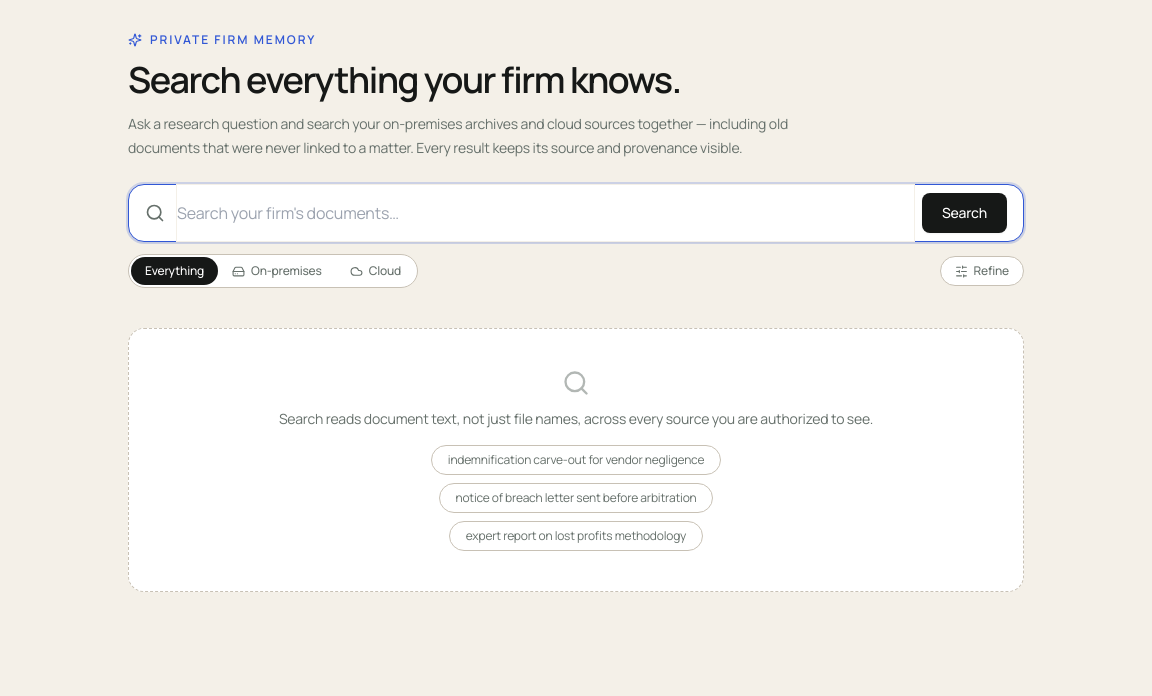
UnifiedFirmMemoryPage › keeps the query box and scope in front and every narrowing filter behind Refine
Expected: the button "On-premises" is shown, [218,257,336,285]
Click the button "Refine". click: (982, 271)
box: [940,256,1024,286]
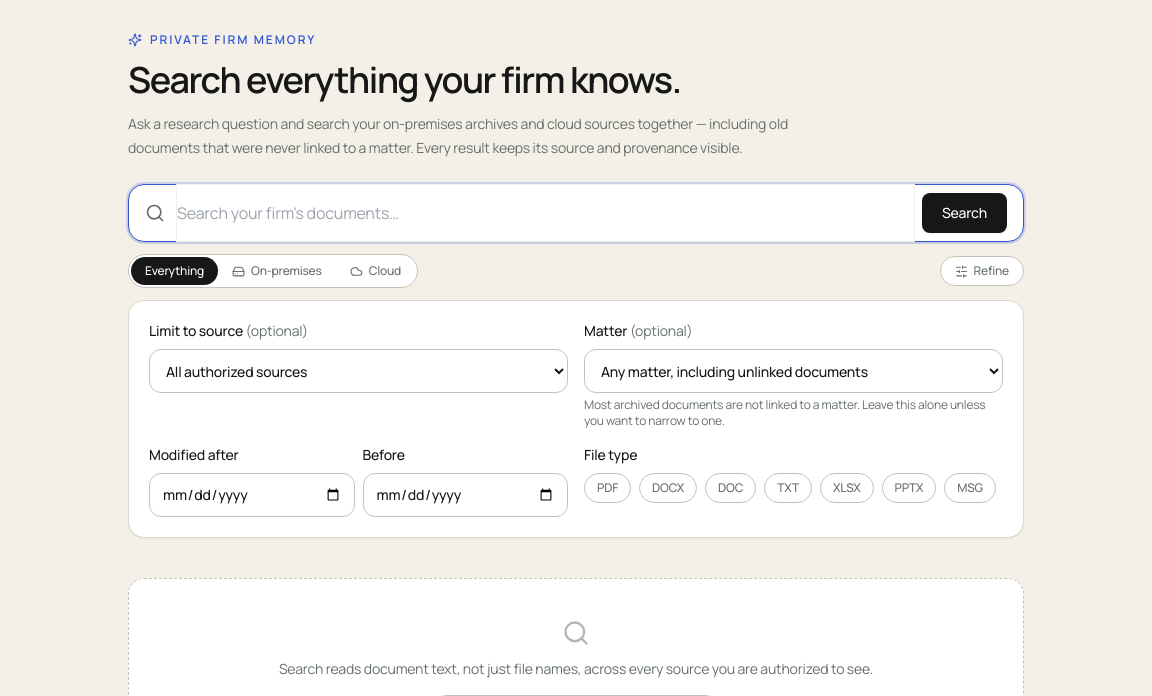
Expected: the dropdown named "Matter filter" shows "Any matter, including unlinked documents", [584,349,1003,393]
